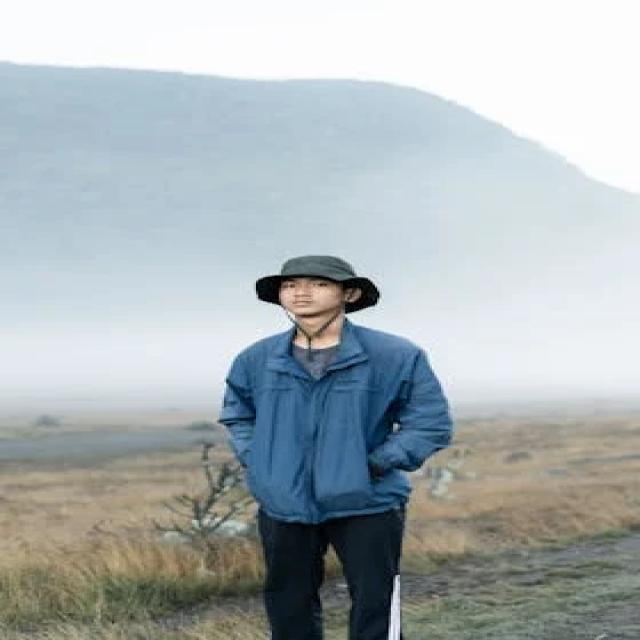Real human 2: (197, 243, 489, 640)
